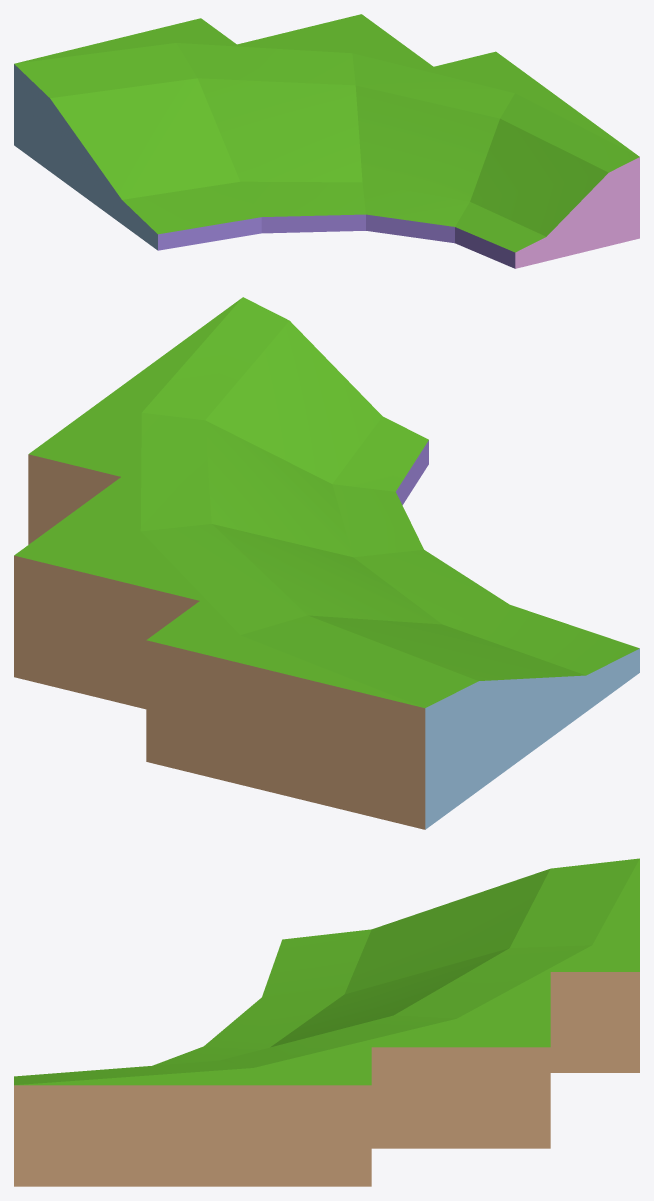
The model's file is Grass_Hill_Grade_Transition_Curve_Inner_6x7.glb.
The picture shows the model from 3 angles, top to bottom: view 1: azimuth 30°, elevation 25°; view 2: azimuth 150°, elevation 25°; view 3: azimuth 270°, elevation 25°; orthographic projection. The views are drawn at different scales.
Visible parts, largest first — view 1: Grass_Hill_Grade_Transition_Curve_Inner_6x7; view 2: Grass_Hill_Grade_Transition_Curve_Inner_6x7; view 3: Grass_Hill_Grade_Transition_Curve_Inner_6x7.
Boxes of the visible parts, bbox=[...] form: Grass_Hill_Grade_Transition_Curve_Inner_6x7: bbox=[14, 14, 639, 268]; Grass_Hill_Grade_Transition_Curve_Inner_6x7: bbox=[14, 297, 639, 829]; Grass_Hill_Grade_Transition_Curve_Inner_6x7: bbox=[14, 858, 639, 1186].
Bounding box in the file's own units: 600 × 125 × 700.
